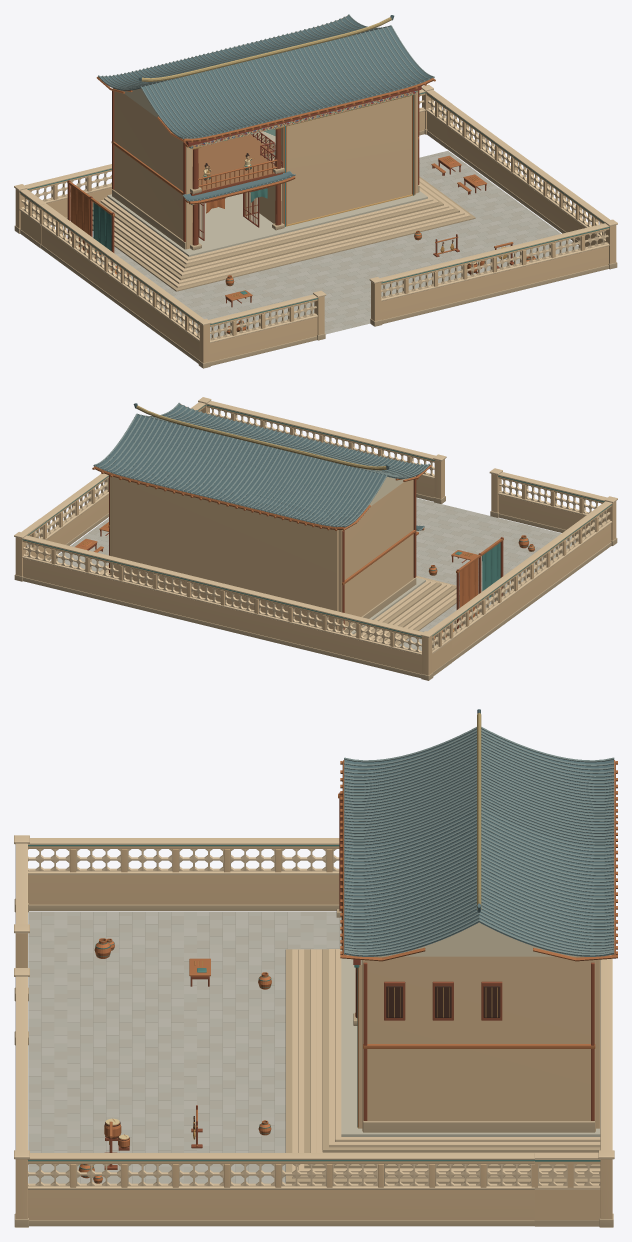
File: music-pavilion.glb
3 renders of one model, top to bottom at view 1: azimuth 30°, elevation 25°; view 2: azimuth 150°, elevation 25°; view 3: azimuth 270°, elevation 25°, orthographic. The views are drawn at different scales.
Parts seen in each view (by area): view 1: architecture--plaster.001, court-paving--court-limestone-0, courtyard-enclosure--plaster.001, main-roof--tile.001, courtyard-enclosure--stone-light.001, main-roof--tile-edge.001, terraced-foundation--stone-light, terraced-foundation--stone, terraced-foundation--music-decor-stone, courtyard-enclosure--stone, music-interior-floor--music-decor-wood, porch--wood.001 (+17 smaller); view 2: architecture--plaster.001, courtyard-enclosure--plaster.001, courtyard-enclosure--stone-light.001, main-roof--tile.001, main-roof--tile-edge.001, court-paving--court-limestone-0, courtyard-enclosure--stone, terraced-foundation--stone-light, courtyard-enclosure--teal.001, main-roof--wood-light.001, main-roof--music-decor-ochre, terraced-foundation--stone (+5 smaller); view 3: court-paving--court-limestone-0, main-roof--tile-edge.001, architecture--plaster.001, courtyard-enclosure--plaster.001, main-roof--tile.001, courtyard-enclosure--stone-light.001, terraced-foundation--stone-light, terraced-foundation--stone, courtyard-enclosure--stone, court-paving--court-fine-joints, terraced-foundation--music-decor-stone, mural-frame--stone.001 (+9 smaller).
Part boxes in pixels (left/top/right/bottom): architecture--plaster.001: left=113, top=88, right=417, bottom=249; court-paving--court-limestone-0: left=93, top=151, right=578, bottom=338; courtyard-enclosure--plaster.001: left=15, top=92, right=616, bottom=363; main-roof--tile.001: left=99, top=15, right=432, bottom=138; courtyard-enclosure--stone-light.001: left=14, top=84, right=617, bottom=343; main-roof--tile-edge.001: left=98, top=14, right=434, bottom=139; terraced-foundation--stone-light: left=92, top=178, right=470, bottom=287; terraced-foundation--stone: left=92, top=176, right=475, bottom=291; terraced-foundation--music-decor-stone: left=107, top=157, right=427, bottom=256; courtyard-enclosure--stone: left=14, top=129, right=617, bottom=368; music-interior-floor--music-decor-wood: left=192, top=134, right=275, bottom=190; porch--wood.001: left=190, top=128, right=282, bottom=245; architecture--plaster.001: left=110, top=476, right=415, bottom=631; courtyard-enclosure--plaster.001: left=15, top=404, right=616, bottom=675; courtyard-enclosure--stone-light.001: left=14, top=397, right=617, bottom=655; main-roof--tile.001: left=95, top=403, right=429, bottom=526; main-roof--tile-edge.001: left=93, top=402, right=430, bottom=527; court-paving--court-limestone-0: left=57, top=498, right=575, bottom=650; courtyard-enclosure--stone: left=14, top=493, right=617, bottom=680; terraced-foundation--stone-light: left=100, top=566, right=459, bottom=643; courtyard-enclosure--teal.001: left=22, top=404, right=612, bottom=637; main-roof--wood-light.001: left=92, top=404, right=431, bottom=530; main-roof--music-decor-ochre: left=136, top=405, right=386, bottom=470; terraced-foundation--stone: left=99, top=564, right=459, bottom=645; court-paving--court-limestone-0: left=28, top=912, right=341, bottom=1183; main-roof--tile-edge.001: left=344, top=727, right=614, bottom=955; architecture--plaster.001: left=358, top=956, right=599, bottom=1131; courtyard-enclosure--plaster.001: left=15, top=846, right=612, bottom=1219; main-roof--tile.001: left=344, top=709, right=613, bottom=956; courtyard-enclosure--stone-light.001: left=14, top=835, right=614, bottom=1189; terraced-foundation--stone-light: left=292, top=949, right=600, bottom=1178; terraced-foundation--stone: left=285, top=949, right=600, bottom=1183; courtyard-enclosure--stone: left=14, top=898, right=613, bottom=1227; court-paving--court-fine-joints: left=28, top=912, right=339, bottom=1183; terraced-foundation--music-decor-stone: left=341, top=949, right=600, bottom=1136; mural-frame--stone.001: left=363, top=1121, right=595, bottom=1132.
Size of the model in its own units: 46.98 by 17.83 by 37.27.
Materials: 35 (1 with a texture image).
